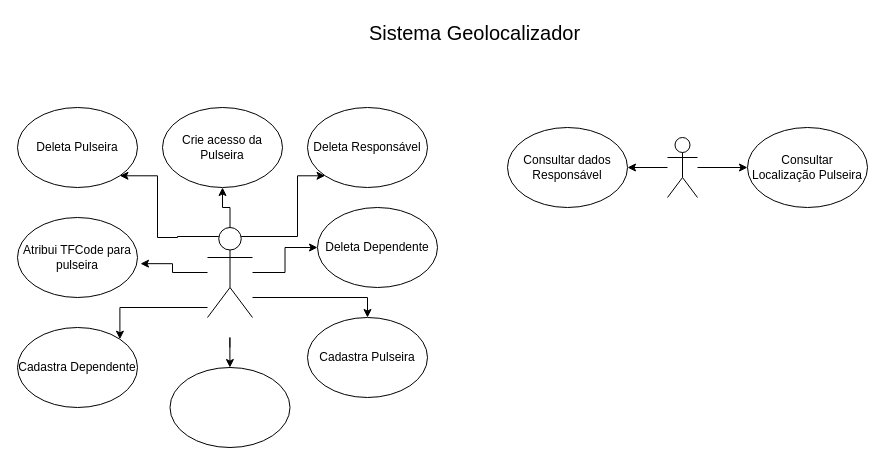
The diagram is 885 pixels wide and 465 high, and some of its shapes have lost their labels. The box of each missing label's shape, as (x1, y1, x2, y2) in pixels:
Cadastra Responsável: (169, 366, 290, 448)
Funcionário: (206, 226, 252, 318)
Responsável: (666, 136, 698, 198)
